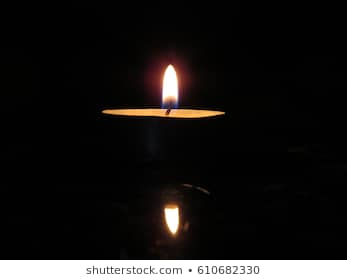Fire: (160, 63, 180, 108), (160, 203, 184, 236)
